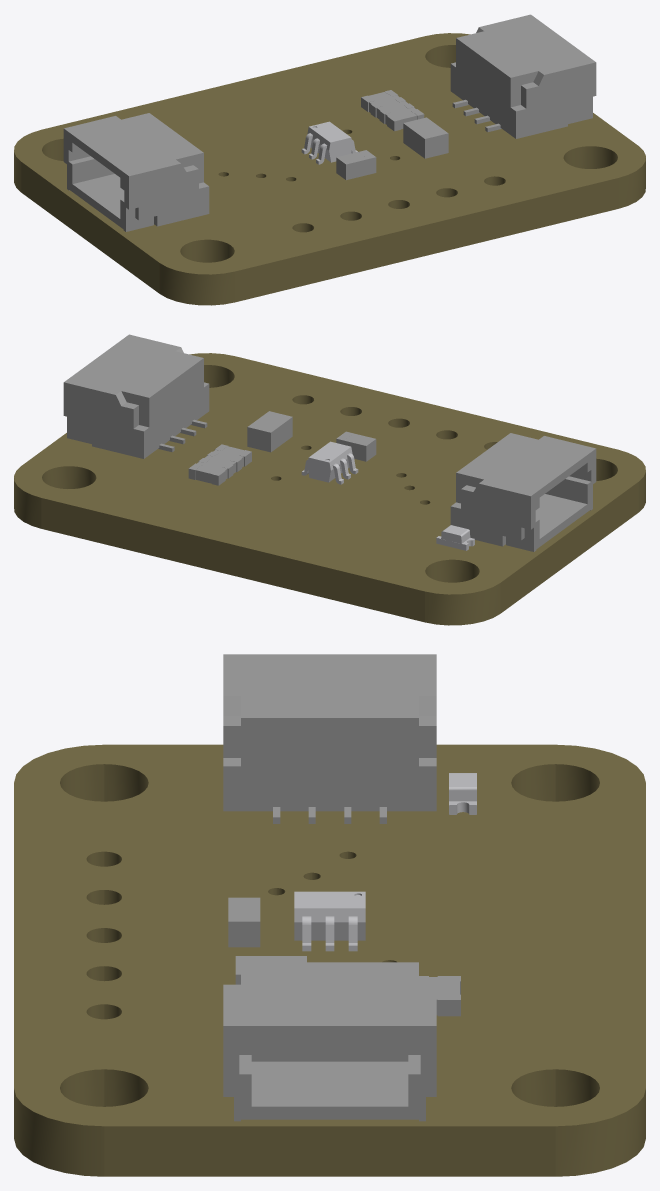
Rendered from ada-4756.glb.
3 renders of one model, top to bottom at view 1: azimuth 30°, elevation 25°; view 2: azimuth 150°, elevation 25°; view 3: azimuth 270°, elevation 25°, orthographic. The views are drawn at different scales.
Visible parts, largest first — view 1: 0.16666666666666666_0.16666666666666666_0.08333333333333333_, 0.3333333333333333_0.3333333333333333_0.3333333333333333_0, 0.5833333333333334_0.5833333333333334_0.5833333333333334_0.8; view 2: 0.16666666666666666_0.16666666666666666_0.08333333333333333_, 0.3333333333333333_0.3333333333333333_0.3333333333333333_0, 0.5833333333333334_0.5833333333333334_0.5833333333333334_0.8; view 3: 0.16666666666666666_0.16666666666666666_0.08333333333333333_, 0.3333333333333333_0.3333333333333333_0.3333333333333333_0, 0.5833333333333334_0.5833333333333334_0.5833333333333334_0.8.
Boxes of the visible parts, x1=… form: 0.16666666666666666_0.16666666666666666_0.08333333333333333_: x1=14, y1=33, x2=645, y2=305; 0.3333333333333333_0.3333333333333333_0.3333333333333333_0: x1=63, y1=14, x2=596, y2=231; 0.5833333333333334_0.5833333333333334_0.5833333333333334_0.8: x1=301, y1=121, x2=357, y2=164; 0.16666666666666666_0.16666666666666666_0.08333333333333333_: x1=14, y1=353, x2=645, y2=625; 0.3333333333333333_0.3333333333333333_0.3333333333333333_0: x1=63, y1=334, x2=596, y2=551; 0.5833333333333334_0.5833333333333334_0.5833333333333334_0.8: x1=301, y1=441, x2=474, y2=550; 0.16666666666666666_0.16666666666666666_0.08333333333333333_: x1=14, y1=744, x2=645, y2=1176; 0.3333333333333333_0.3333333333333333_0.3333333333333333_0: x1=223, y1=654, x2=460, y2=1121; 0.5833333333333334_0.5833333333333334_0.5833333333333334_0.8: x1=294, y1=773, x2=476, y2=951.
Bounding box in the file's own units: 2.54 × 0.4529 × 1.78.
